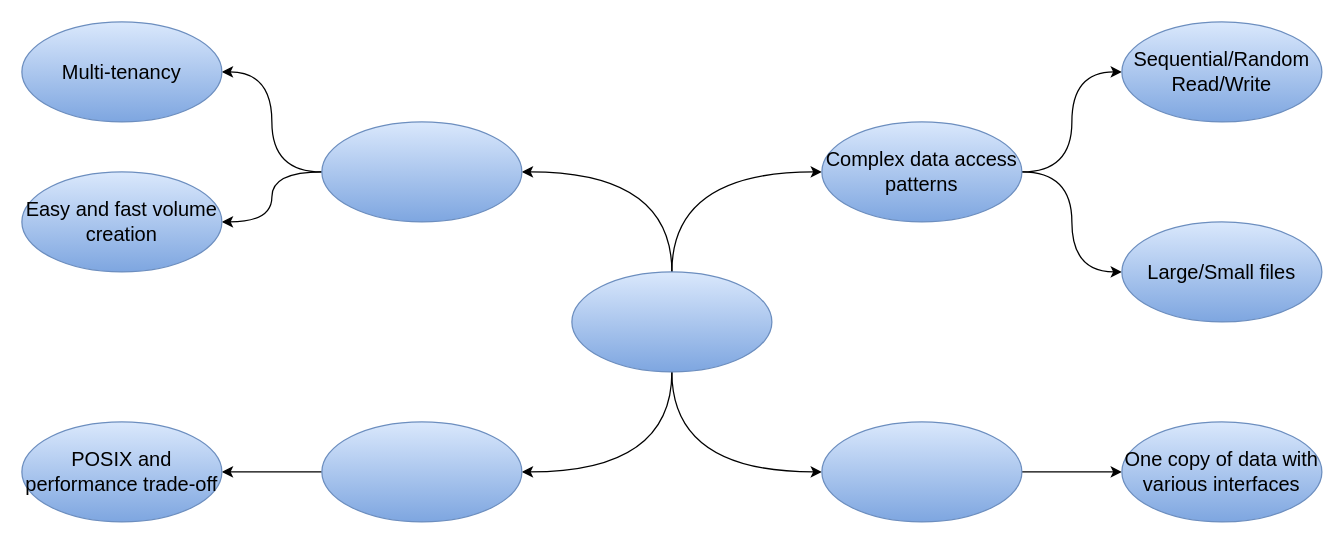
The diagram is 1344 pixels wide and 544 high, and some of its shapes have lost their labels. Here are the shapes that lost their labels. From the top down, the centre of each, then its label:
(421,171): Dynamic provision
(671,321): Volume Lifecycle
(421,471): Cross-node data consistency
(921,471): Bridge upstream and downstream apps
